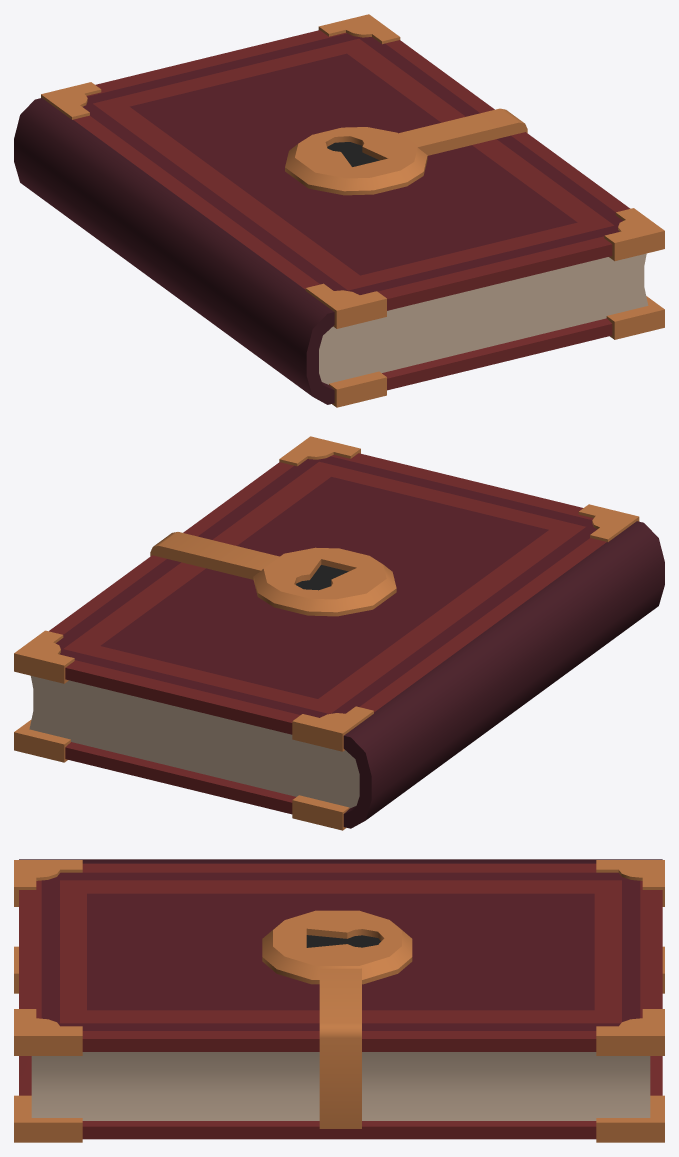
Rendered from Book_01.fbx.
The picture shows the model from 3 angles, top to bottom: view 1: azimuth 30°, elevation 25°; view 2: azimuth 150°, elevation 25°; view 3: azimuth 270°, elevation 25°; orthographic projection. The views are drawn at different scales.
Parts seen in each view (by area): view 1: Book_01; view 2: Book_01; view 3: Book_01.
Part boxes in pixels (bbox=[...]): Book_01: bbox=[14, 14, 664, 407]; Book_01: bbox=[14, 436, 664, 830]; Book_01: bbox=[14, 859, 664, 1142].
Size of the model in its own units: 0.2283 by 0.0687 by 0.3269.
